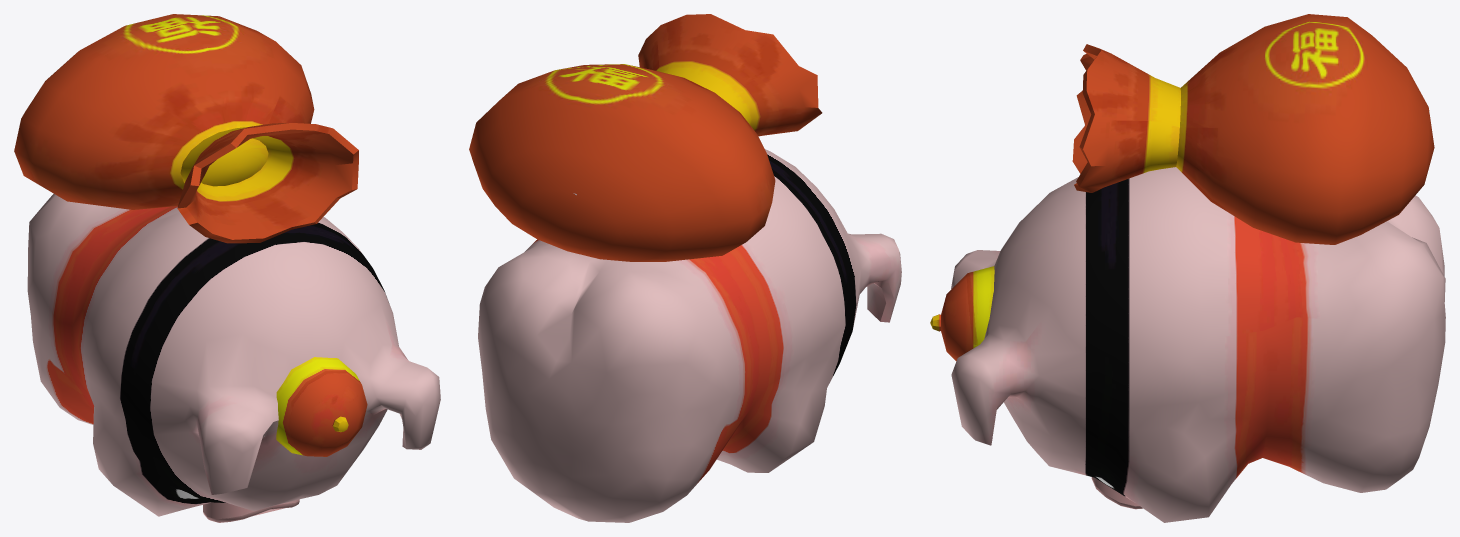
Rendered from pig3.glb.
The picture shows the model from 3 angles, left to right: view 1: azimuth 30°, elevation 25°; view 2: azimuth 150°, elevation 25°; view 3: azimuth 270°, elevation 25°; orthographic projection. The views are drawn at different scales.
Parts seen in each view (by area): view 1: pig; view 2: pig; view 3: pig.
Part boxes in pixels (x1,y1,x2,y2): pig: (14, 14, 440, 522); pig: (469, 14, 901, 522); pig: (930, 14, 1445, 522).
Bounding box in the file's own units: 1.4 × 2.02 × 2.09.
1 material, 1 textured.
